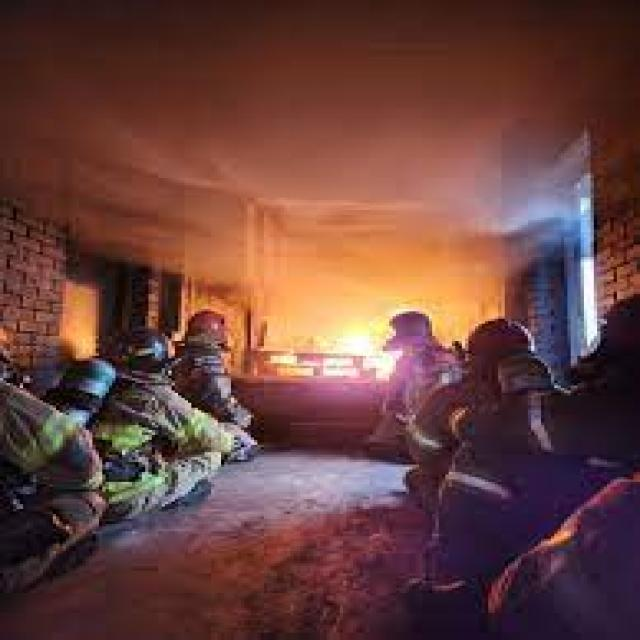Fire: (351, 328, 379, 361)
Smoke: (200, 100, 565, 266)
